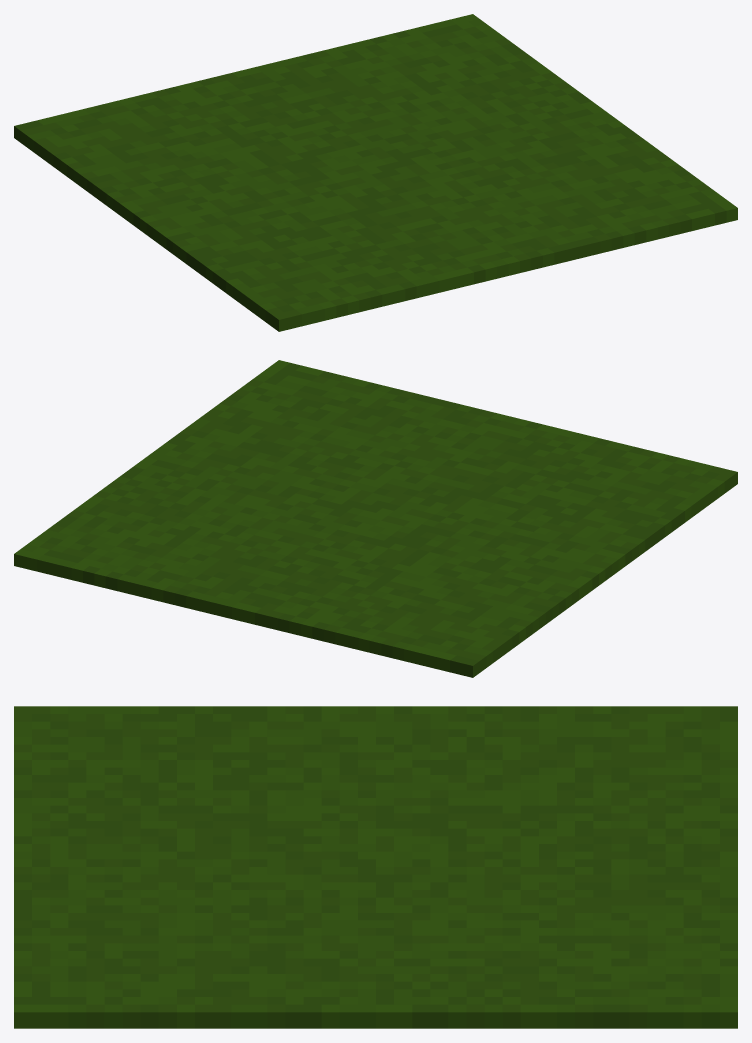
Rendered from grass.obj.
3 renders of one model, top to bottom at view 1: azimuth 30°, elevation 25°; view 2: azimuth 150°, elevation 25°; view 3: azimuth 270°, elevation 25°, orthographic. The views are drawn at different scales.
Size of the model in its own units: 4 by 0.1 by 4.
